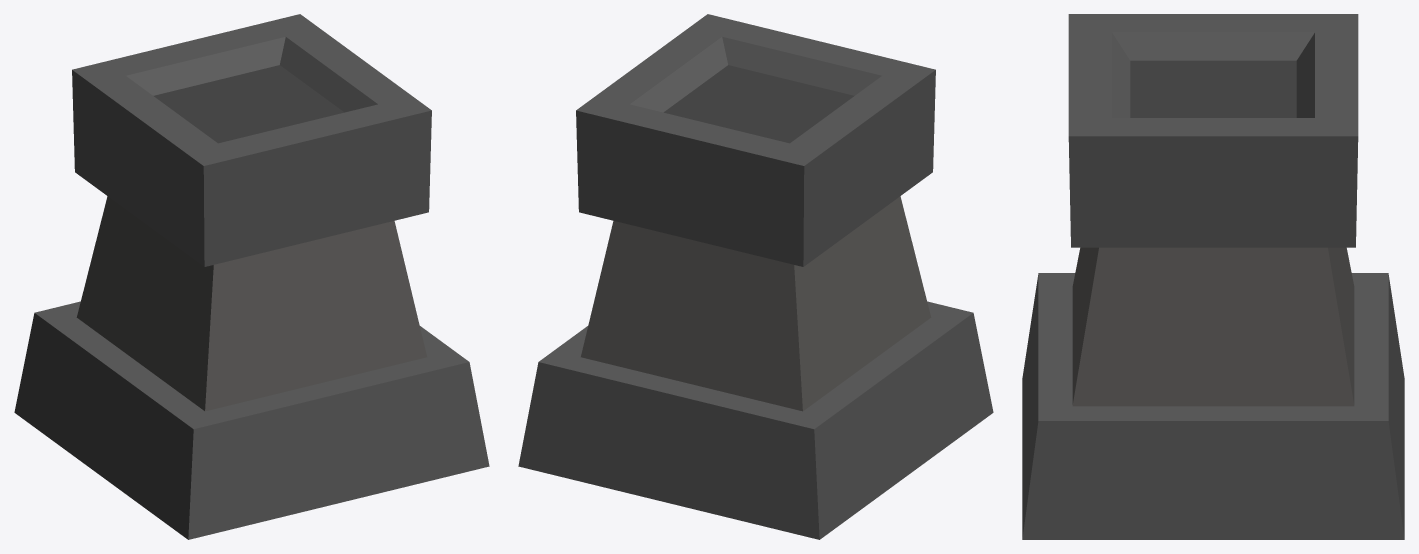
File: Chimney_3_A_3.fbx
3 renders of one model, left to right at view 1: azimuth 30°, elevation 25°; view 2: azimuth 150°, elevation 25°; view 3: azimuth 270°, elevation 25°, orthographic. The views are drawn at different scales.
Parts seen in each view (by area): view 1: Chimney_3_A_3; view 2: Chimney_3_A_3; view 3: Chimney_3_A_3.
Boxes of the visible parts, x1,y1,x2,y2 form: Chimney_3_A_3: (14, 14, 489, 539); Chimney_3_A_3: (518, 14, 993, 539); Chimney_3_A_3: (1022, 14, 1404, 539).
Size of the model in its own units: 53.03 by 58.79 by 53.03.
